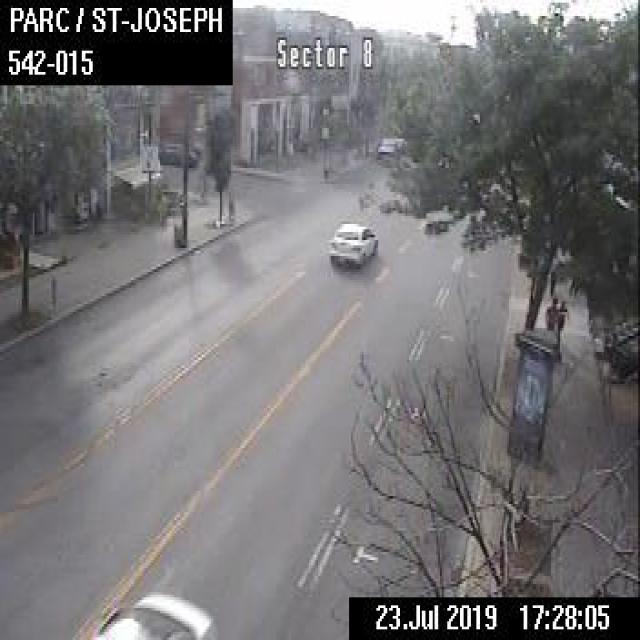pedestrian: (554, 298, 567, 349), (543, 295, 556, 329)
vehicle: (90, 587, 216, 637), (325, 219, 376, 267), (155, 139, 198, 165), (375, 136, 400, 155), (394, 135, 406, 152)
